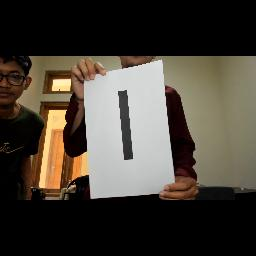i: (114, 87, 144, 169)
